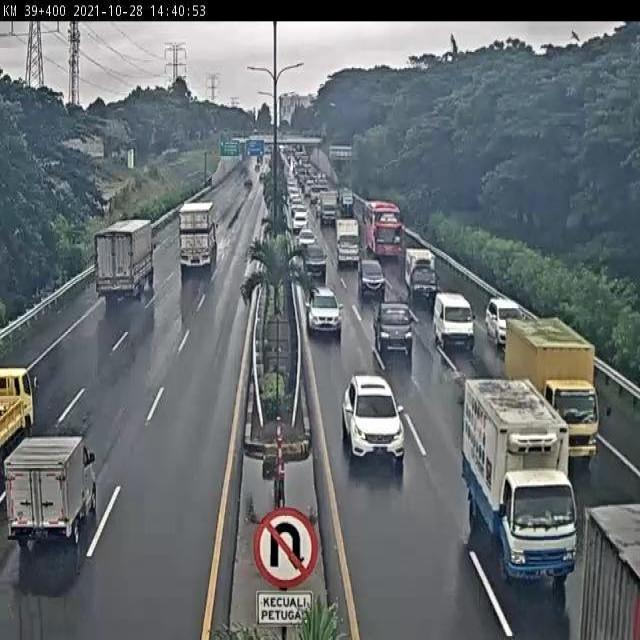ARABA: (341, 375, 407, 465), (432, 292, 475, 351), (375, 301, 415, 351), (485, 295, 525, 344), (306, 286, 342, 338), (355, 256, 387, 295)
KAMYONET: (462, 377, 579, 579), (506, 318, 600, 462), (6, 436, 96, 545), (95, 217, 154, 300), (405, 244, 440, 300)
TIR: (178, 201, 219, 271)
